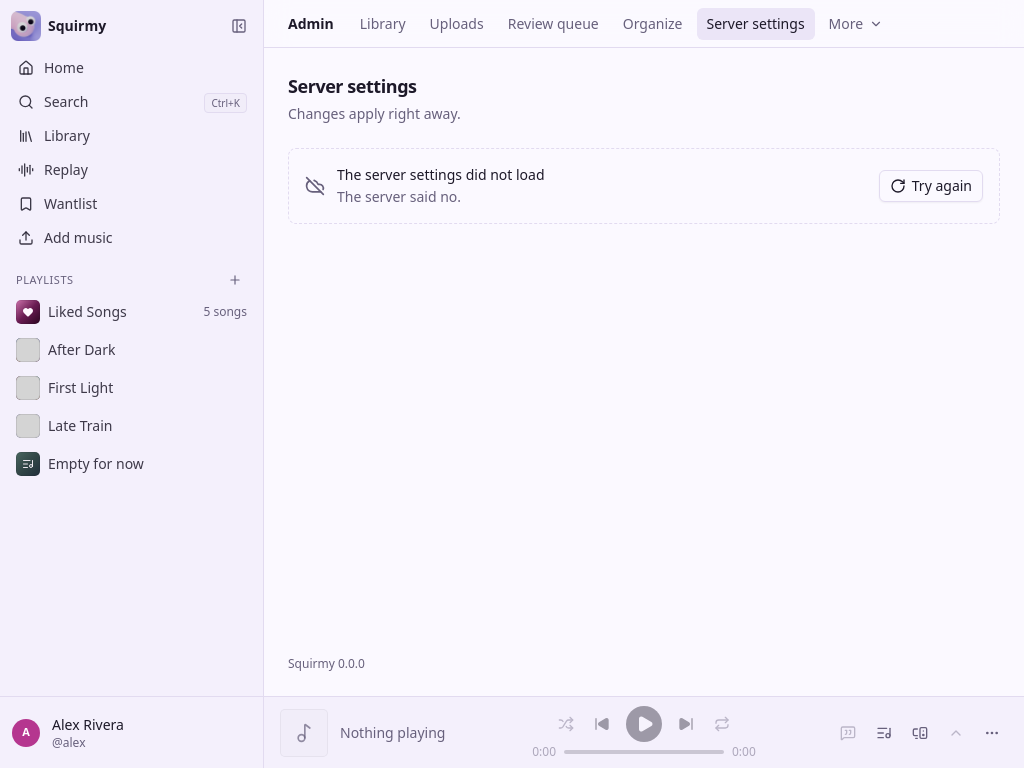
Test: a read that fails says so where its content would be, with a retry › Admin: server settings
This screenshot has width=1024, height=768.
Expected: the message shows "The server settings did not load", [337, 165, 545, 184]
Expected: the message shows "The server said no.", [337, 187, 461, 206]
Click the button "Try again" at (931, 186), box [879, 170, 983, 202]
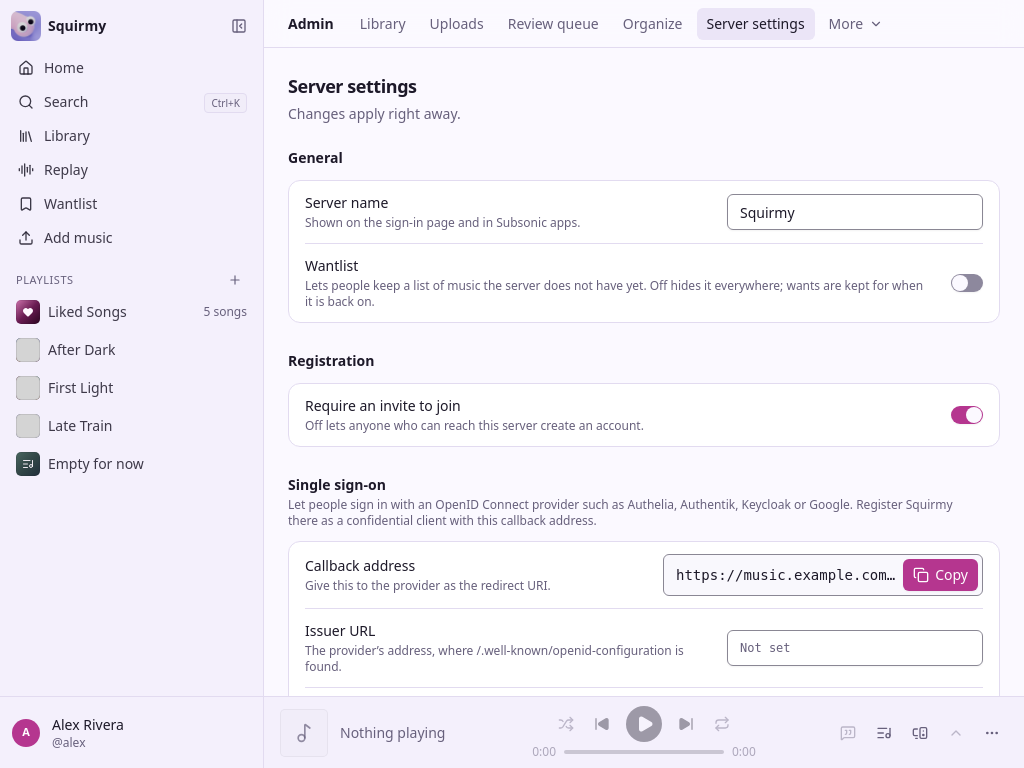
Now the field labelled "Server name" is shown, box [727, 194, 983, 230]
